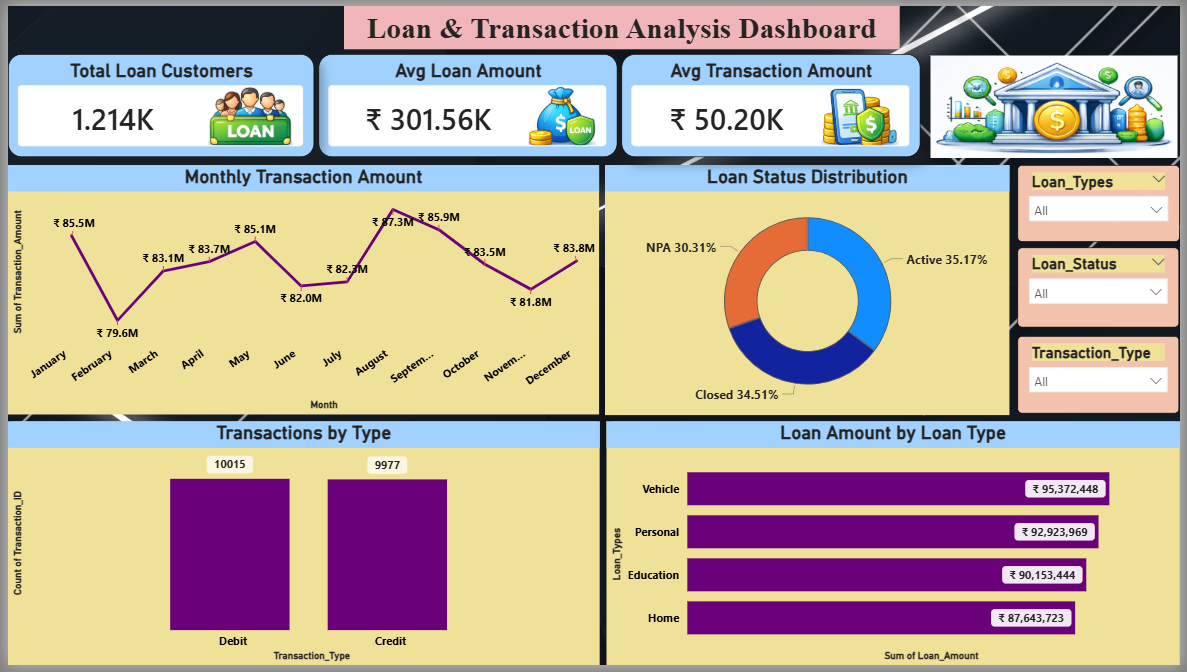

This screenshot's page, from the dashboard's own definition file:
{"tool":"powerbi","page":{"name":"Loan & Transaction Analysis","canvas":[1280,720],"ordinal":4},"visuals":[{"type":"textbox","box":[367.5,0,607.5,47.5],"z":0},{"type":"cardVisual","title":"Avg Loan Amount","fields":{"Data":["Account Details.Average Loan Amount"]},"box":[340,52.9,326.5,112.9],"z":1000},{"type":"cardVisual","title":"Total Loan Customers","fields":{"Data":["Account Details.Loan Customers"]},"box":[0,53.1,334.4,112.5],"z":2000},{"type":"donutChart","title":"Loan Status Distribution","fields":{"Category":["Loan Details.Loan_Status"],"Y":["CountNonNull(Loan Details.Loan_ID)"]},"box":[653.1,173.1,442.3,273.1],"z":3000},{"type":"clusteredBarChart","title":"Loan Amount by Loan Type","fields":{"Category":["Loan Details.Loan_Types"],"Y":["Sum(Loan Details.Loan_Amount)"]},"box":[653.3,453.3,626.7,266.7],"z":4000},{"type":"lineClusteredColumnComboChart","title":"Transactions by Type","fields":{"Category":["Transaction Details.Transaction_Type"],"Y":["CountNonNull(Transaction Details.Transaction_ID)"]},"box":[0,453.3,646.7,266.7],"z":5000},{"type":"slicer","fields":{"Values":["Loan Details.Loan_Types"]},"box":[1102.9,173.5,177.1,84.1],"z":6000},{"type":"slicer","fields":{"Values":["Loan Details.Loan_Status"]},"box":[1103.5,263.5,176.5,87.6],"z":7000},{"type":"slicer","fields":{"Values":["Transaction Details.Transaction_Type"]},"box":[1102.9,360,176.5,84.7],"z":8000},{"type":"lineChart","title":"Monthly Transaction Amount","fields":{"Y":["Sum(Transaction Details.Transaction_Amount)"],"Category":["Transaction Details.Last_Transaction_Date.Variation.Date Hierarchy.Month"]},"box":[0,173.8,646.2,272.5],"z":9000},{"type":"cardVisual","title":"Avg Transaction Amount","fields":{"Data":["Account Details.Average Transactions"]},"box":[671.2,52.4,326.5,112.9],"z":10000},{"type":"image","box":[1008.2,53.5,270,111.8],"z":11000}]}

Visuals, with their boxes in screenshot pixels (x1, y1, x2, y2), scaled from the page's 1280x720 canvas onto the 1187x672 screenshot:
textbox: {"left": 341, "top": 0, "right": 904, "bottom": 44}
"Avg Loan Amount" cardVisual: {"left": 315, "top": 49, "right": 618, "bottom": 155}
"Total Loan Customers" cardVisual: {"left": 0, "top": 50, "right": 310, "bottom": 155}
"Loan Status Distribution" donutChart: {"left": 606, "top": 162, "right": 1016, "bottom": 416}
"Loan Amount by Loan Type" clusteredBarChart: {"left": 606, "top": 423, "right": 1186, "bottom": 671}
"Transactions by Type" lineClusteredColumnComboChart: {"left": 0, "top": 423, "right": 600, "bottom": 671}
slicer - Loan Details.Loan_Types: {"left": 1023, "top": 162, "right": 1186, "bottom": 240}
slicer - Loan Details.Loan_Status: {"left": 1023, "top": 246, "right": 1186, "bottom": 328}
slicer - Transaction Details.Transaction_Type: {"left": 1023, "top": 336, "right": 1186, "bottom": 415}
"Monthly Transaction Amount" lineChart: {"left": 0, "top": 162, "right": 599, "bottom": 417}
"Avg Transaction Amount" cardVisual: {"left": 622, "top": 49, "right": 925, "bottom": 154}
image: {"left": 935, "top": 50, "right": 1185, "bottom": 154}
